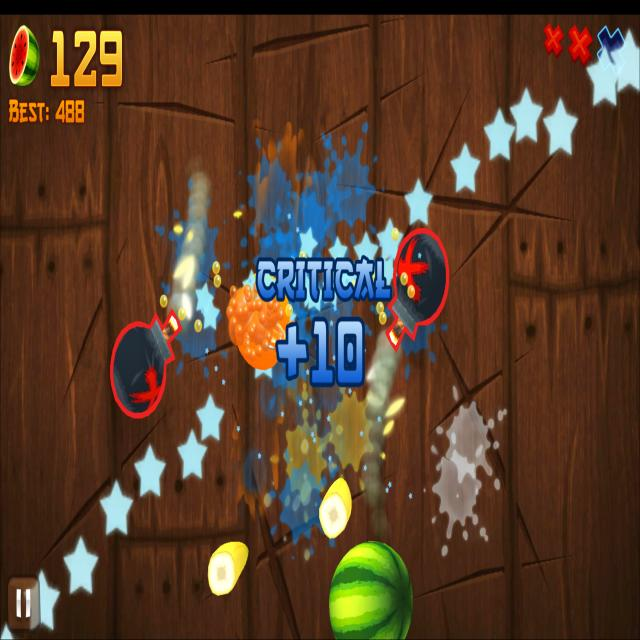bomb: (386, 229, 449, 350), (110, 309, 179, 419)
fruit: (329, 541, 413, 640)
